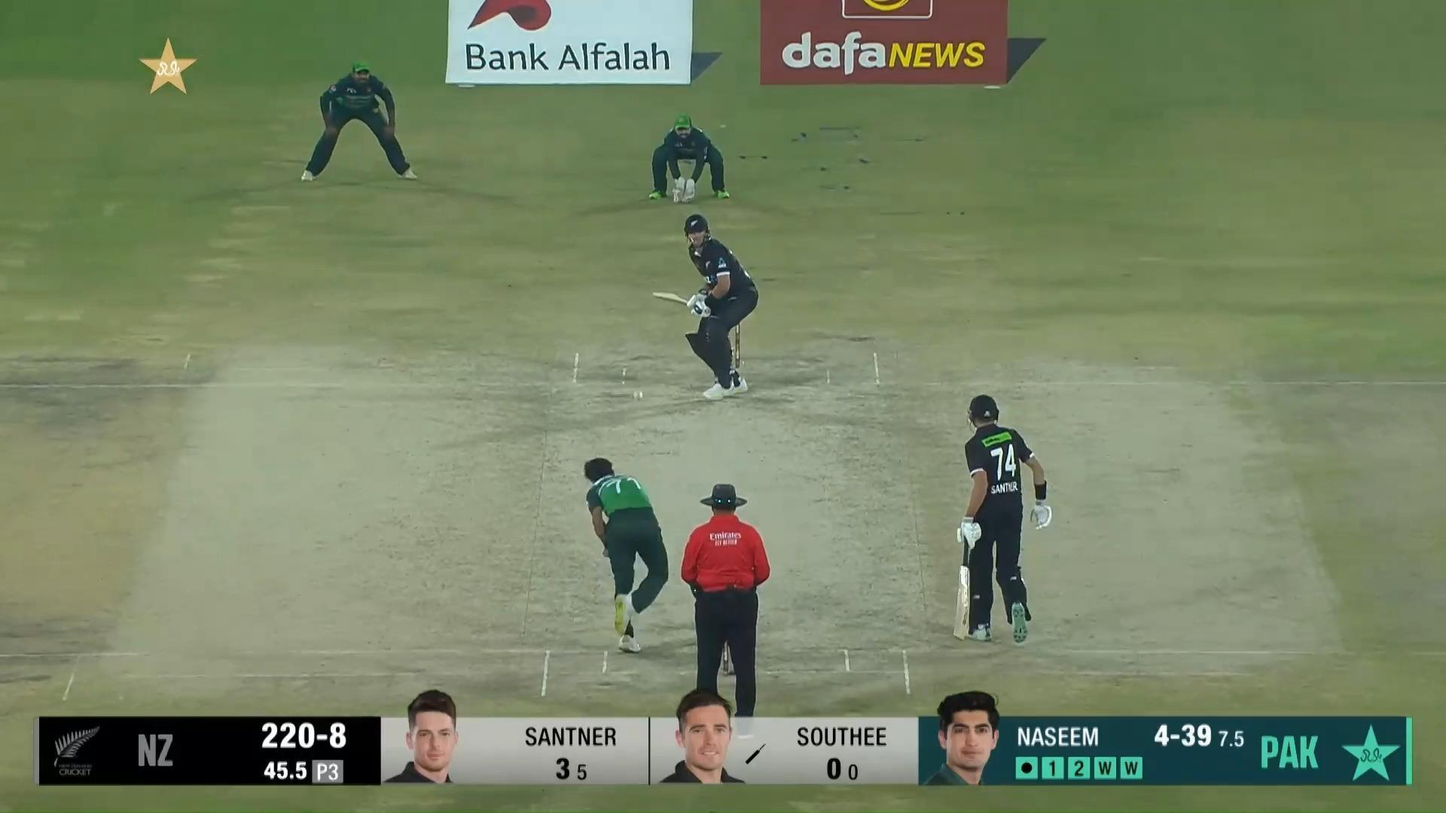BM 1: (651, 215, 760, 400)
BO: (583, 456, 670, 654)
